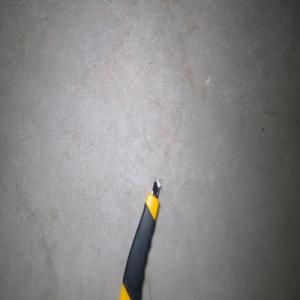Cutter: (119, 179, 161, 300)
